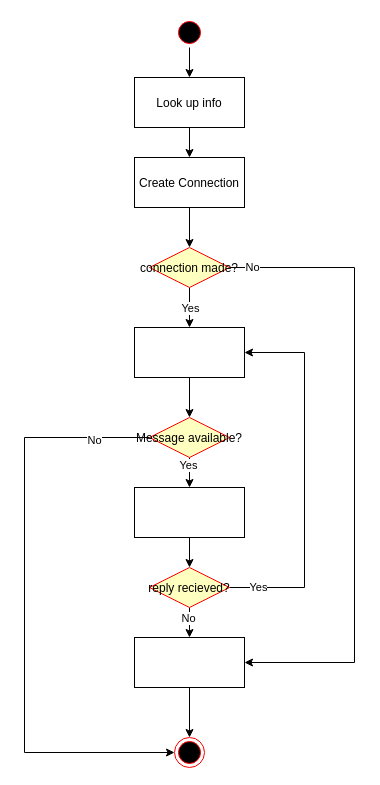
Image size: 380x785. Some labels were removed from this diagram. Each missing label, with the box of its shape:
Get messages: (134, 326, 244, 378)
Report error: (134, 636, 244, 688)
Send Reply: (134, 486, 244, 538)
